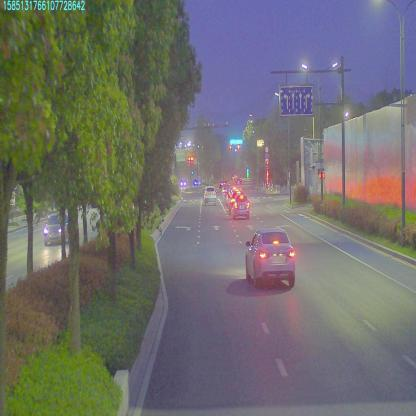traffic-light: (230, 138, 242, 144), (236, 144, 240, 152), (229, 143, 232, 149)
